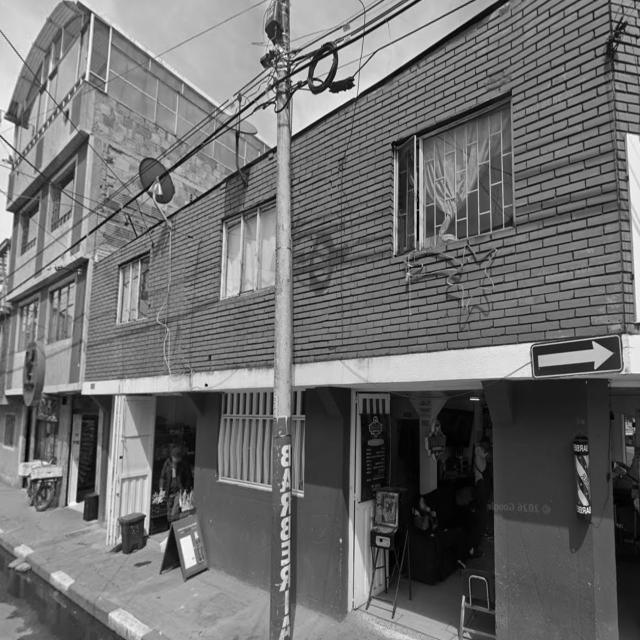Fachada: (82, 0, 640, 640), (0, 0, 233, 485)
Poste: (270, 0, 293, 640)
